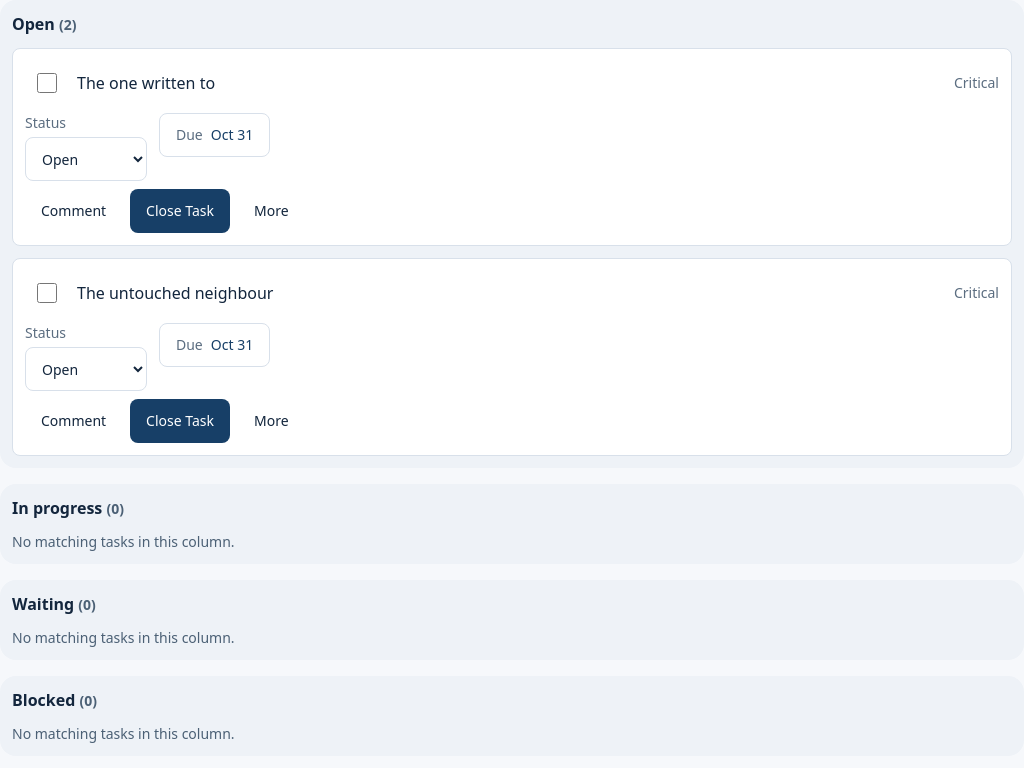
Test: WorkPerspectives — Board › puts a version conflict on the card it belongs to, with a way out
Select "Blocked" in the dropdown labelled "Status" below "The one written to" at (86, 159), box [25, 137, 147, 181]
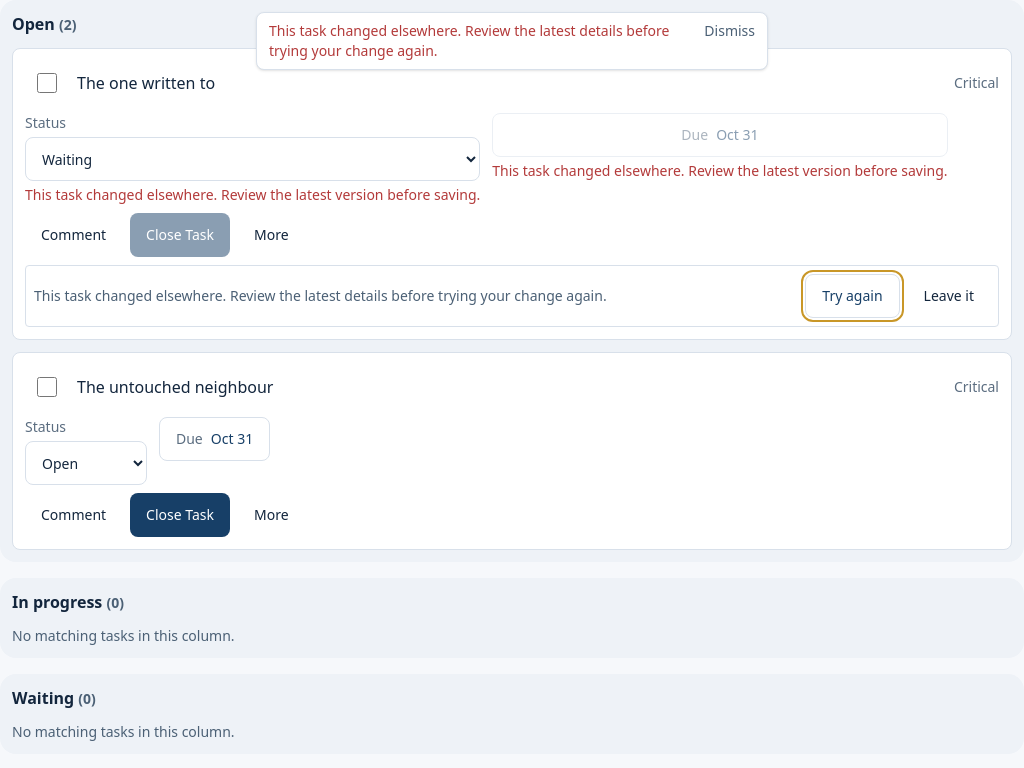
Expected: the number of elements with test id "task-board-card-conflict" is 1, [25, 265, 999, 327]
Expected: the button with test id "task-board-card-conflict-reapply" is shown, [805, 274, 900, 318]
Expected: the button with test id "task-board-card-conflict-dismiss" is shown, [908, 274, 990, 318]
